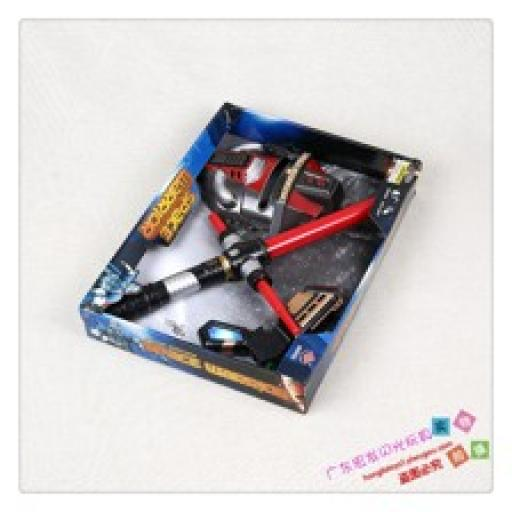sith saber: (92, 201, 378, 334)
